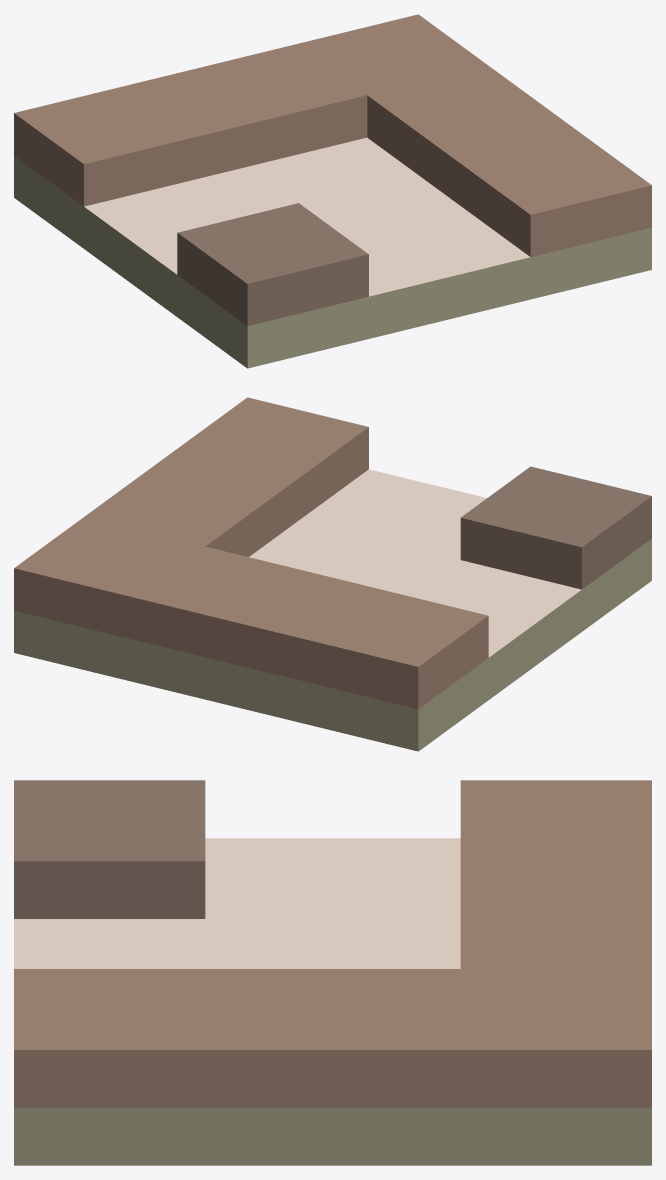
The model's file is LTile.glb.
The picture shows the model from 3 angles, top to bottom: view 1: azimuth 30°, elevation 25°; view 2: azimuth 150°, elevation 25°; view 3: azimuth 270°, elevation 25°; orthographic projection. The views are drawn at different scales.
Parts seen in each view (by area): view 1: flor_tile; view 2: flor_tile; view 3: flor_tile.
Part boxes in pixels (x1,y1,x2,y2): flor_tile: (14,14,651,368); flor_tile: (14,397,651,751); flor_tile: (14,780,651,1165).
Size of the model in its own units: 2 by 0.4 by 2.
